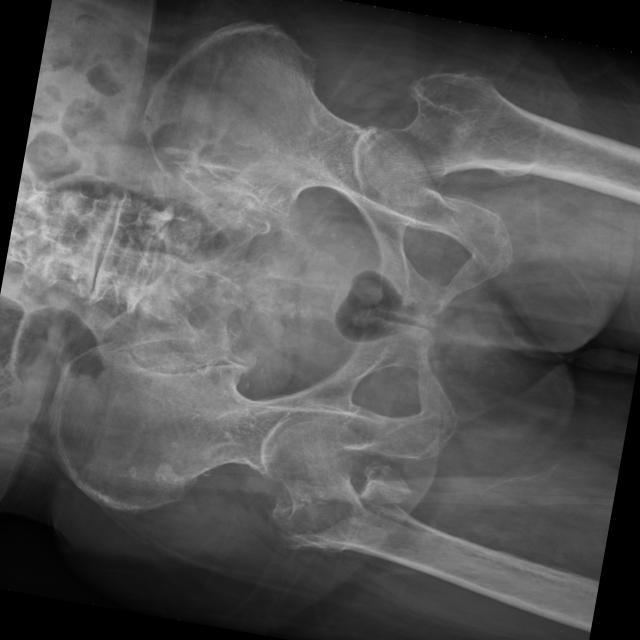normal-left: (364, 72, 611, 205)
right-intertrochanteric: (282, 503, 463, 580), (271, 418, 364, 527)
right-lesser-trochanter: (359, 462, 414, 502)
